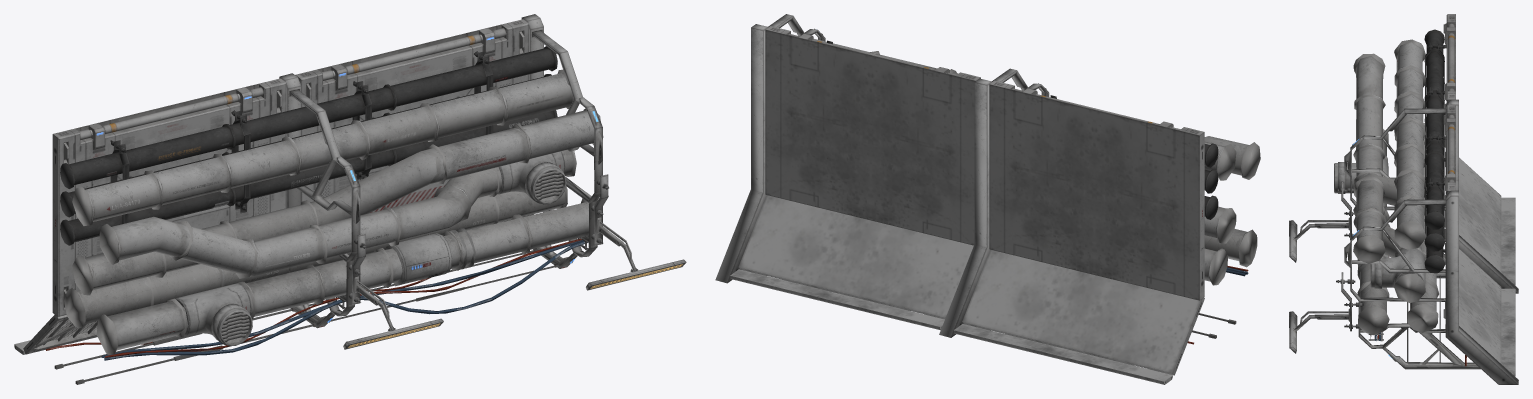
Rendered from pipe_wall.fbx.
3 renders of one model, left to right at view 1: azimuth 30°, elevation 25°; view 2: azimuth 150°, elevation 25°; view 3: azimuth 270°, elevation 25°, orthographic. The views are drawn at different scales.
Visible parts, largest first — view 1: SF_AP04_F_001_001; view 2: SF_AP04_F_001_001; view 3: SF_AP04_F_001_001.
Part boxes in pixels (left/top/right/bottom): SF_AP04_F_001_001: left=14, top=14, right=686, bottom=384; SF_AP04_F_001_001: left=715, top=14, right=1260, bottom=384; SF_AP04_F_001_001: left=1289, top=14, right=1518, bottom=384.
Bounding box in the file's own units: 990 × 437 × 480.
